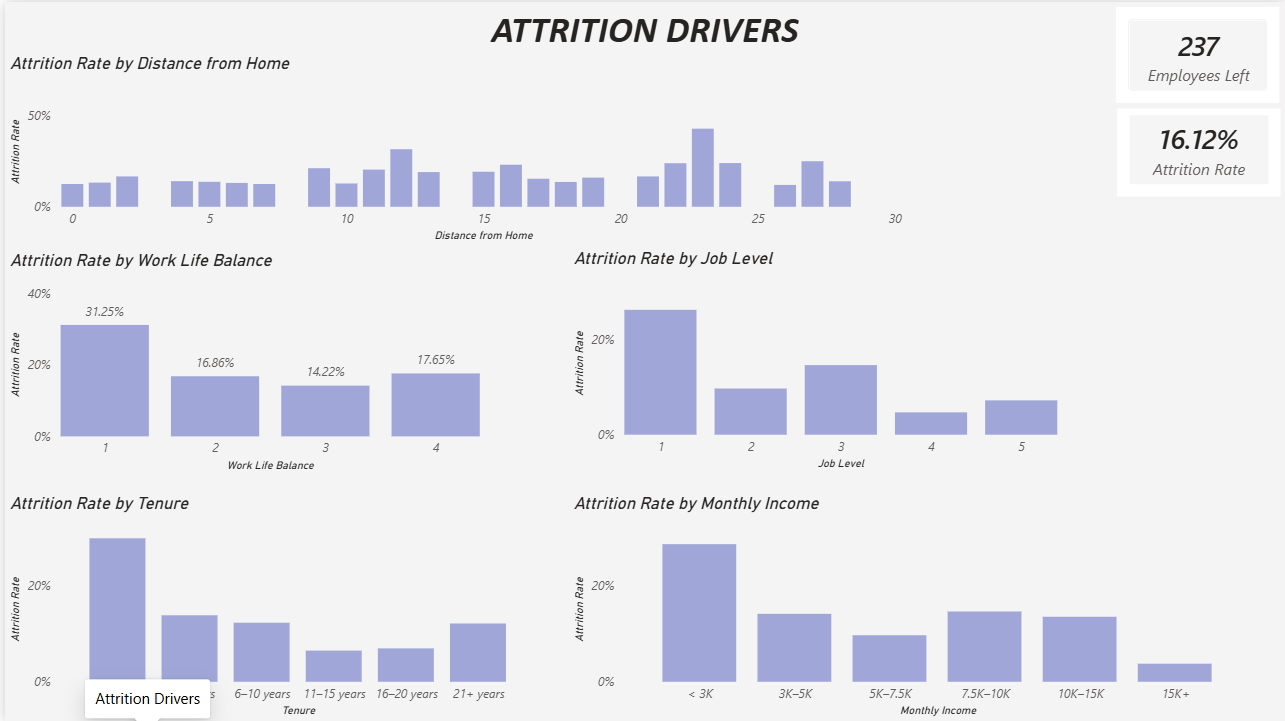

What the dashboard file says about the page in this screenshot:
{"tool":"powerbi","page":{"name":"Attrition Drivers","canvas":[1280,720],"ordinal":1},"visuals":[{"type":"clusteredColumnChart","title":"Attrition Rate by Work Life Balance","fields":{"Category":["HR Analytics.WorkLifeBalance"],"Y":["HR Analytics.Attrition Rate"]},"box":[0,247.5,480,226.7],"z":4},{"type":"clusteredColumnChart","title":"Attrition Rate by Job Level","fields":{"Category":["HR Analytics.JobLevel"],"Y":["HR Analytics.Attrition Rate"]},"box":[563.3,246.7,493.8,226.2],"z":5},{"type":"clusteredColumnChart","title":"Attrition Rate by Distance from Home","fields":{"Y":["HR Analytics.Attrition Rate"],"Category":["HR Analytics.DistanceFromHome (bins)"]},"box":[0,51.7,906.7,193.3],"z":6},{"type":"clusteredColumnChart","title":"Attrition Rate by Tenure ","fields":{"Y":["HR Analytics.Attrition Rate"],"Category":["HR Analytics.Tenure Band"]},"box":[0,491.7,536.7,228.3],"z":7},{"type":"clusteredColumnChart","title":"Attrition Rate by Monthly Income","fields":{"Y":["HR Analytics.Attrition Rate"],"Category":["HR Analytics.Income Band"]},"box":[563.3,491.7,688.3,228.3],"z":8},{"type":"cardVisual","fields":{"Data":["HR Analytics.Attrition Rate"]},"box":[1107.1,96.4,173.3,103.3],"z":9},{"type":"cardVisual","fields":{"Data":["HR Analytics.Employees Left"]},"box":[1106.2,0,173.3,106.7],"z":10},{"type":"textbox","box":[296.2,0,687.5,63.8],"z":11}]}

Visuals, with their boxes in screenshot pixels (x1, y1, x2, y2), scaled from the page's 1280x720 canvas onto the 1285x721 screenshot:
"Attrition Rate by Work Life Balance" clusteredColumnChart: bbox(0, 248, 482, 475)
"Attrition Rate by Job Level" clusteredColumnChart: bbox(566, 247, 1061, 474)
"Attrition Rate by Distance from Home" clusteredColumnChart: bbox(0, 52, 910, 245)
"Attrition Rate by Tenure " clusteredColumnChart: bbox(0, 492, 539, 720)
"Attrition Rate by Monthly Income" clusteredColumnChart: bbox(566, 492, 1256, 720)
cardVisual - HR Analytics.Attrition Rate: bbox(1111, 97, 1284, 200)
cardVisual - HR Analytics.Employees Left: bbox(1111, 0, 1284, 107)
textbox: bbox(297, 0, 988, 64)
